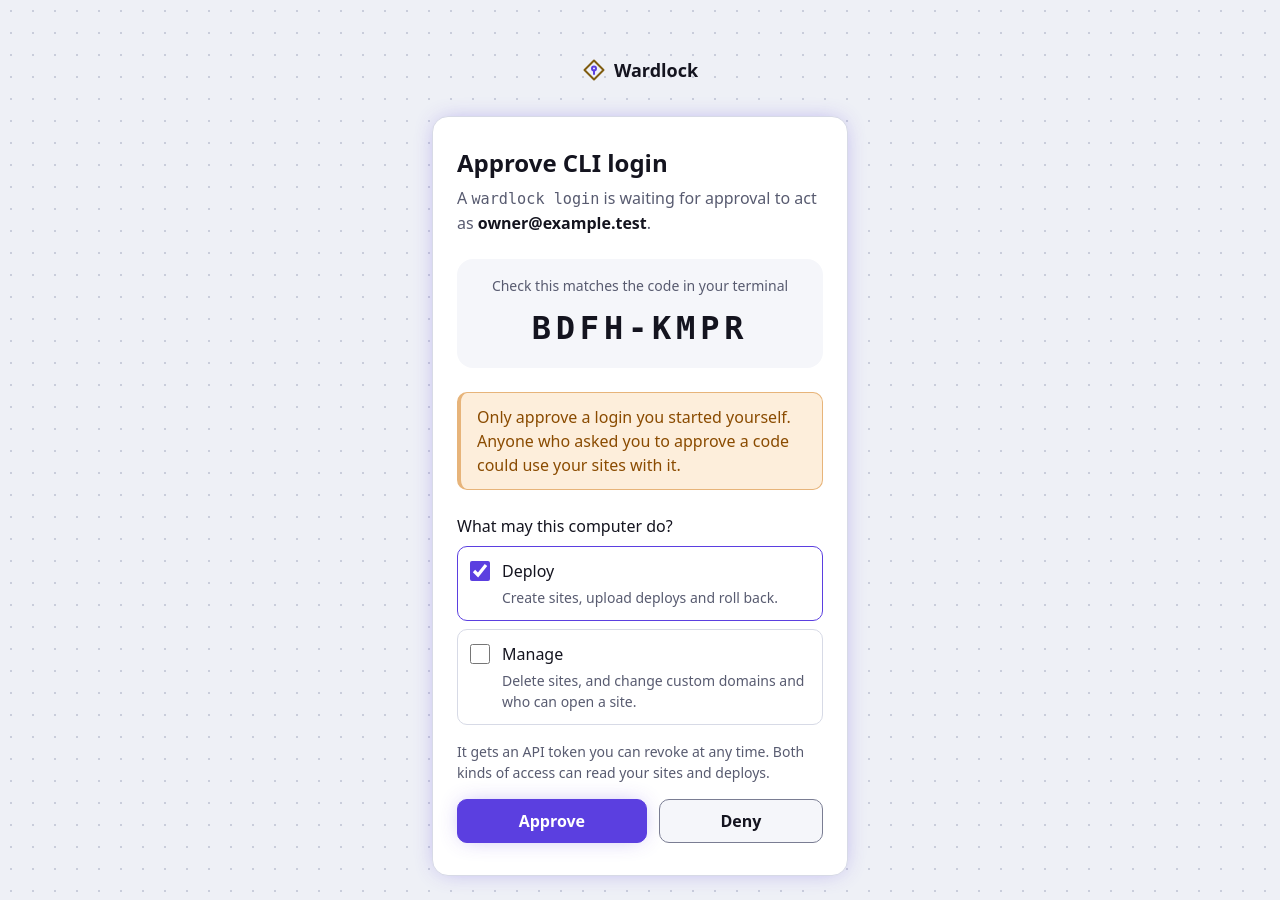
/cli-login › explains a failure and keeps the page
Click the button "Approve" at [552, 821], box [457,799,647,843]
(page scrolled)
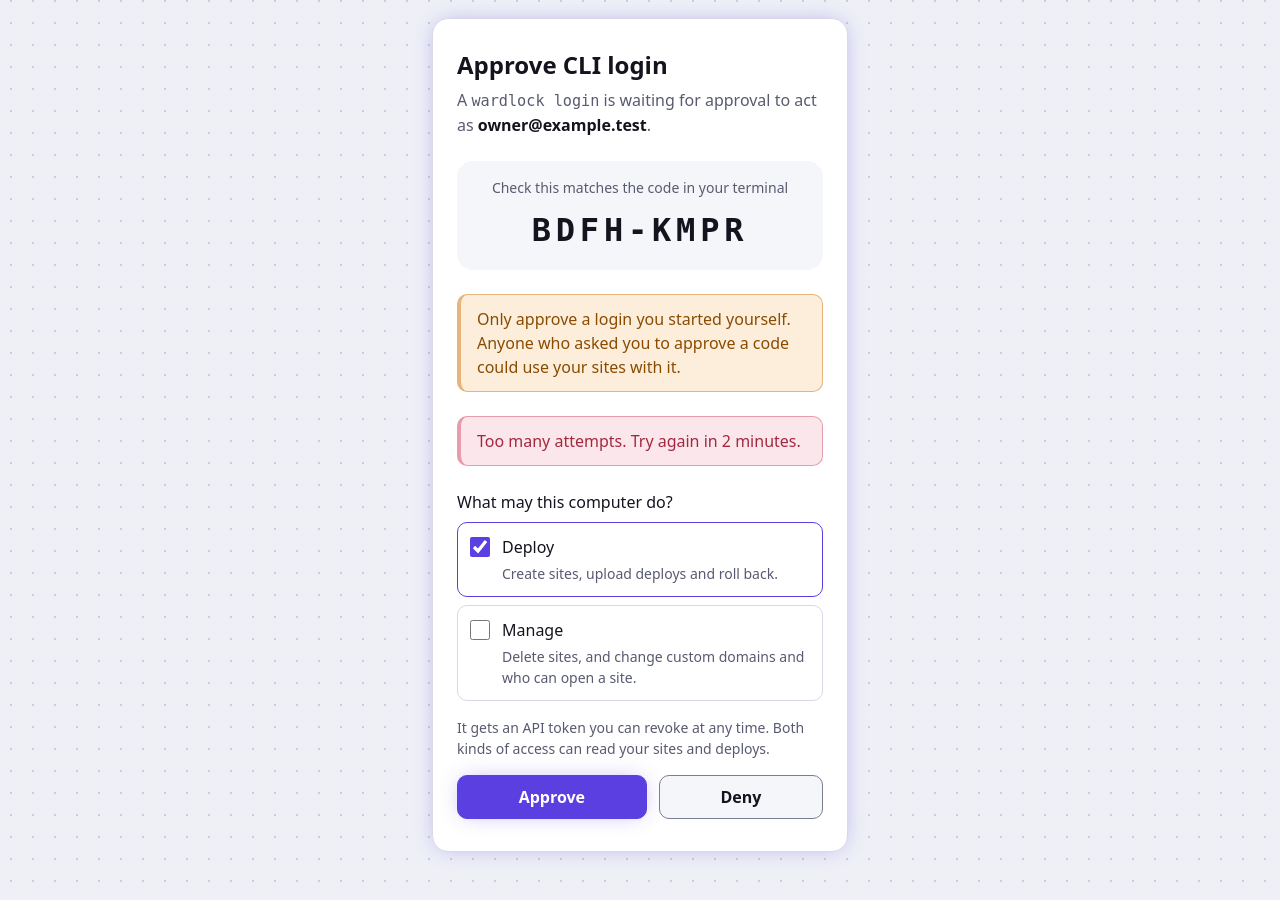
Check: the button "Approve" is shown, box [457,775,647,819]
Check: the text "Too many attempts. Try again in 2 minutes." is shown, box [457,416,823,466]
